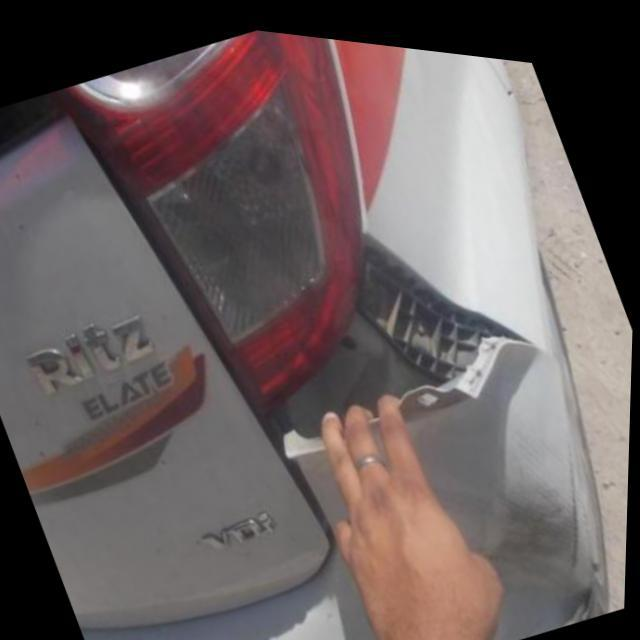dislocated part: (266, 224, 529, 445)
